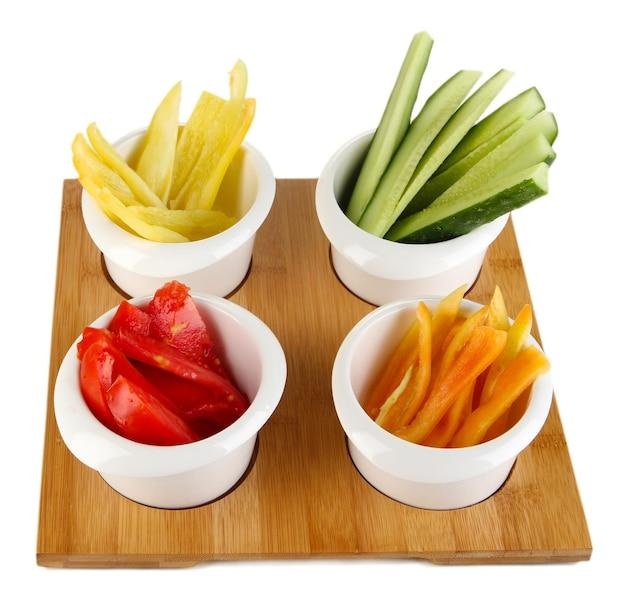bell pepper: (367, 278, 566, 510), (66, 280, 254, 501), (90, 80, 288, 285)
cucumber: (346, 40, 606, 288)
